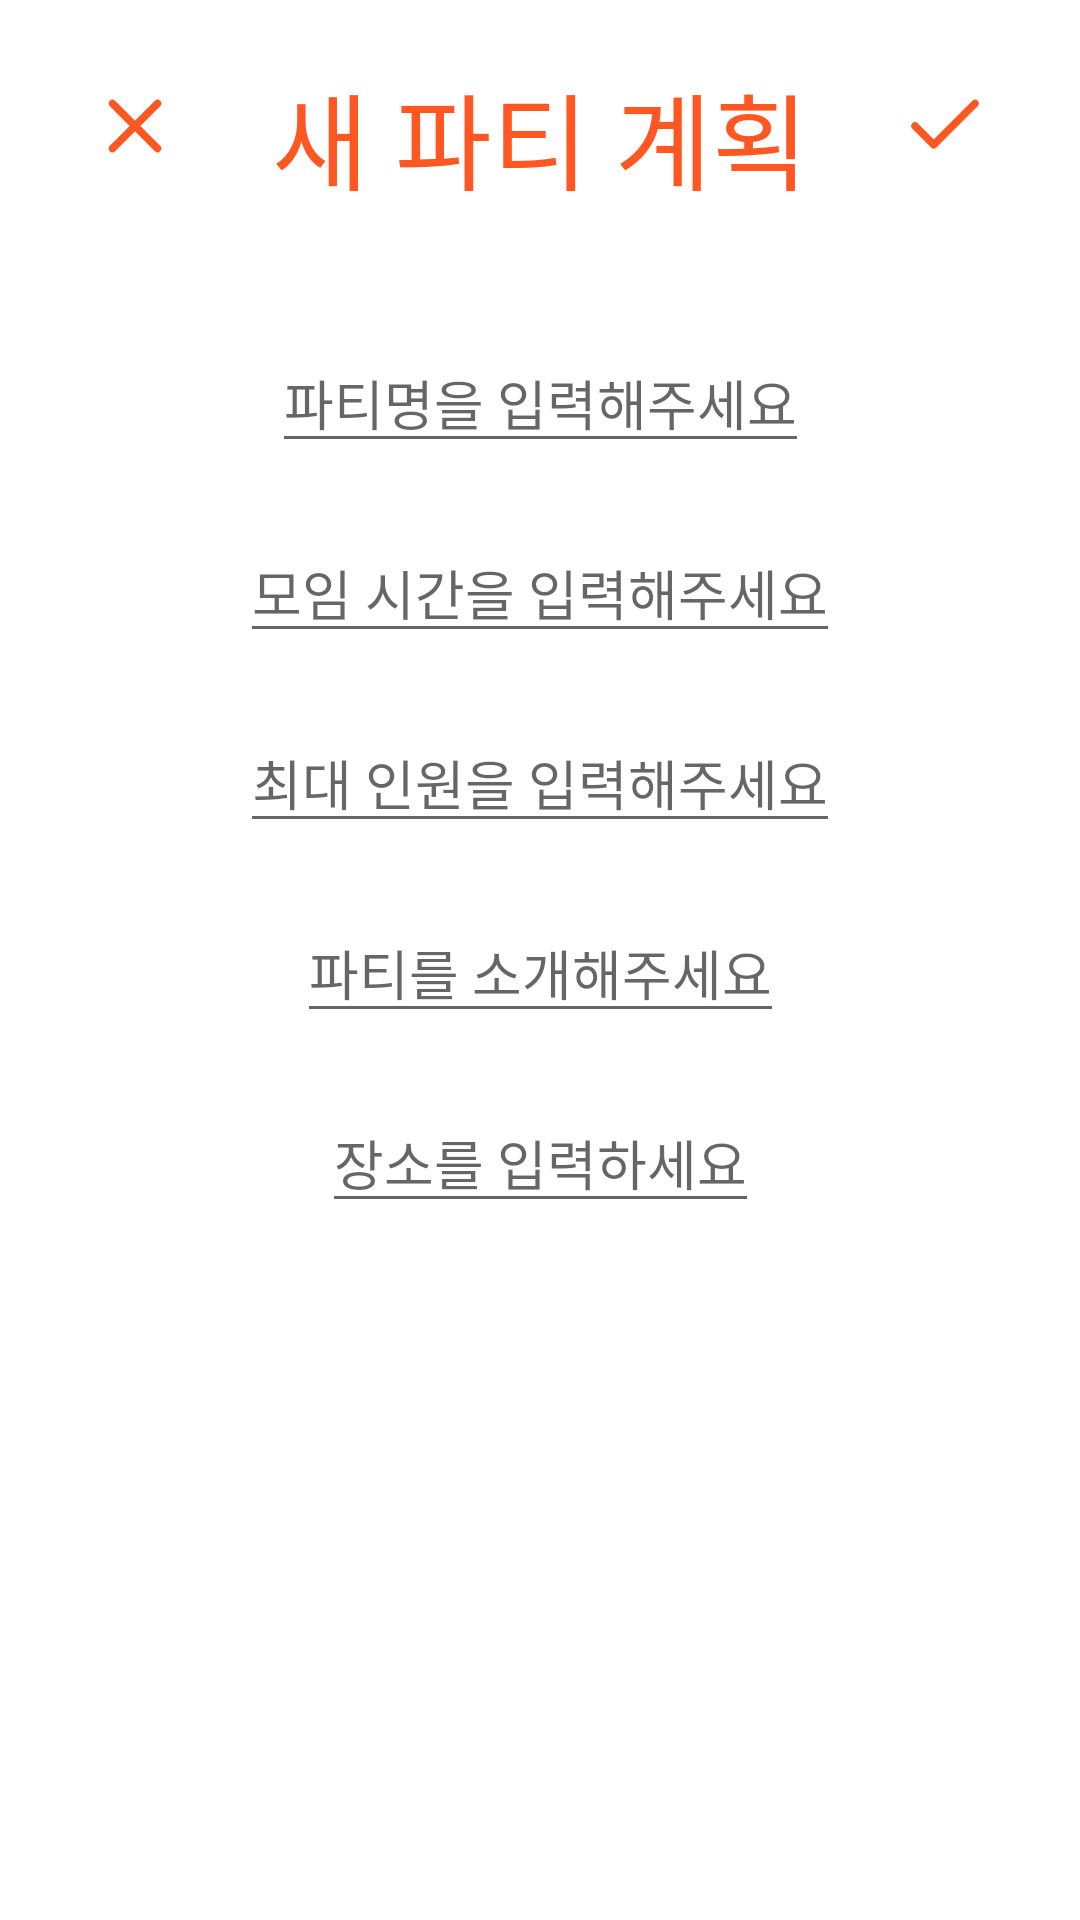

Point at icon controls on the screen. Image size 1080w x 1920h, points as [x,y].
check: [945,124]
